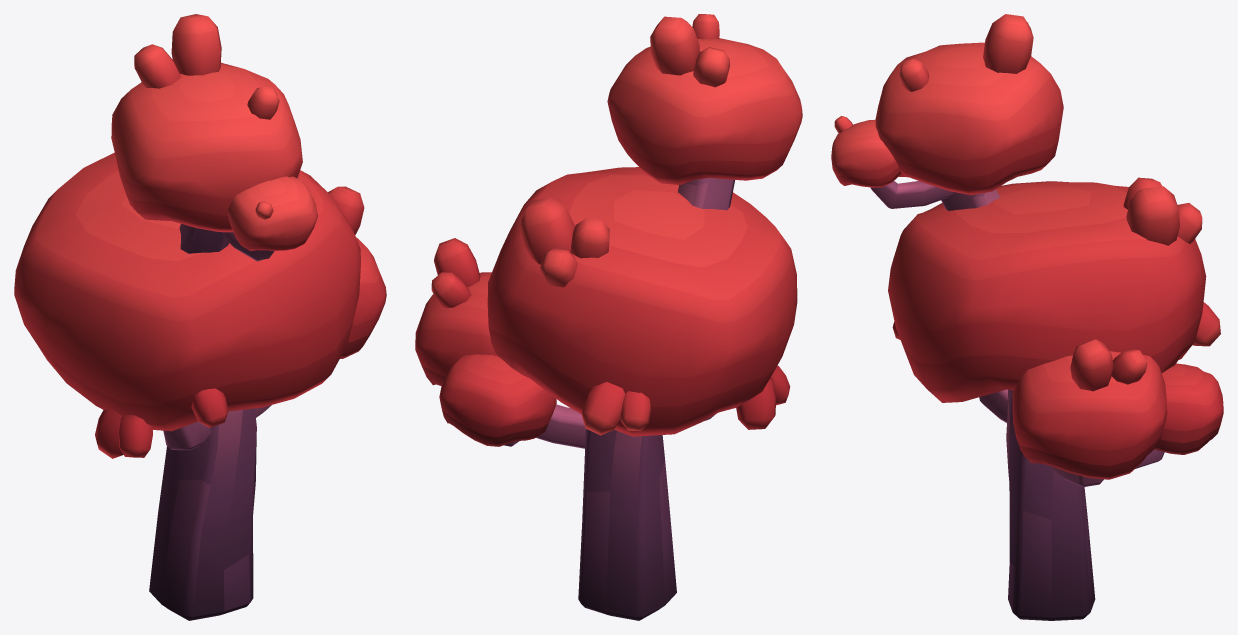
File: grassland_tree_col3_7.fbx
The picture shows the model from 3 angles, left to right: view 1: azimuth 30°, elevation 25°; view 2: azimuth 150°, elevation 25°; view 3: azimuth 270°, elevation 25°; orthographic projection. The views are drawn at different scales.
Visible parts, largest first — view 1: grassland_tree_col3_7; view 2: grassland_tree_col3_7; view 3: grassland_tree_col3_7.
Part boxes in pixels (x1=…): grassland_tree_col3_7: x1=14, y1=14, x2=386, y2=620; grassland_tree_col3_7: x1=415, y1=14, x2=802, y2=620; grassland_tree_col3_7: x1=831, y1=14, x2=1223, y2=620.
Size of the model in its own units: 701 by 1182 by 729.
Materials: 1 (1 with a texture image).
